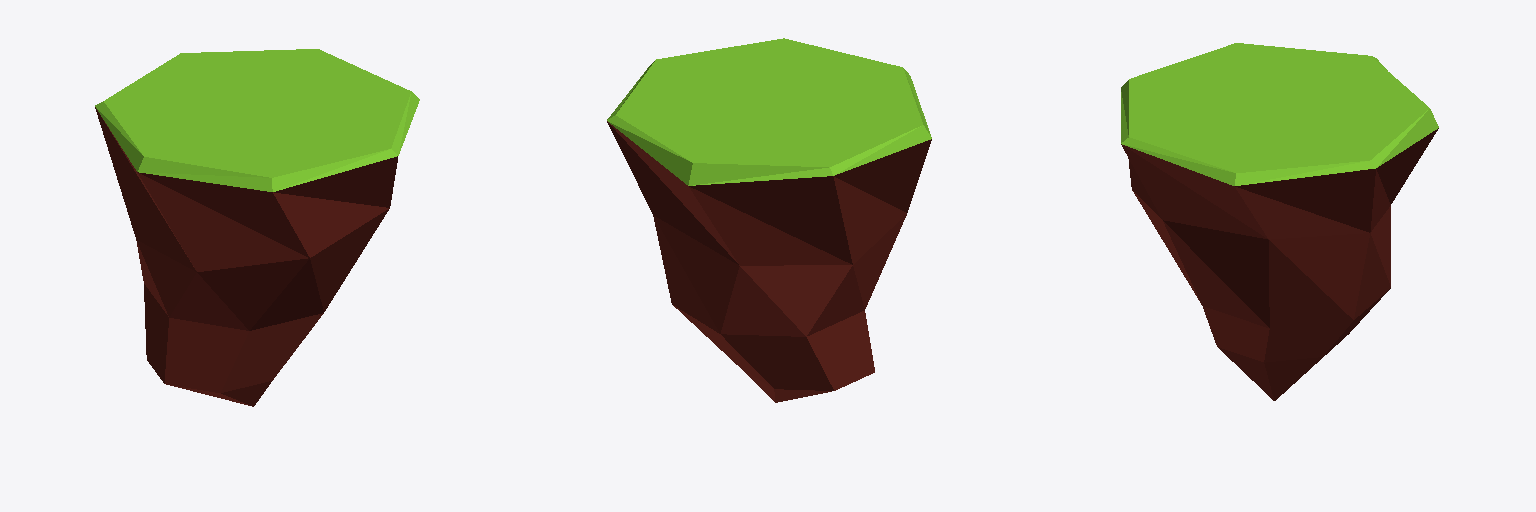
File: Island.obj
3 views of the same model, side by side, from view 1: azimuth 30°, elevation 25°; view 2: azimuth 150°, elevation 25°; view 3: azimuth 270°, elevation 25° (orthographic).
Visible parts, largest first — view 1: Island_Cylinder.014; view 2: Island_Cylinder.014; view 3: Island_Cylinder.014.
Boxes of the visible parts, box(x1,y1,x2,y2) form: Island_Cylinder.014: box(95, 49, 419, 406); Island_Cylinder.014: box(607, 38, 931, 402); Island_Cylinder.014: box(1121, 43, 1438, 400).
Bounding box in the file's own units: 2.96 × 2.96 × 2.88.